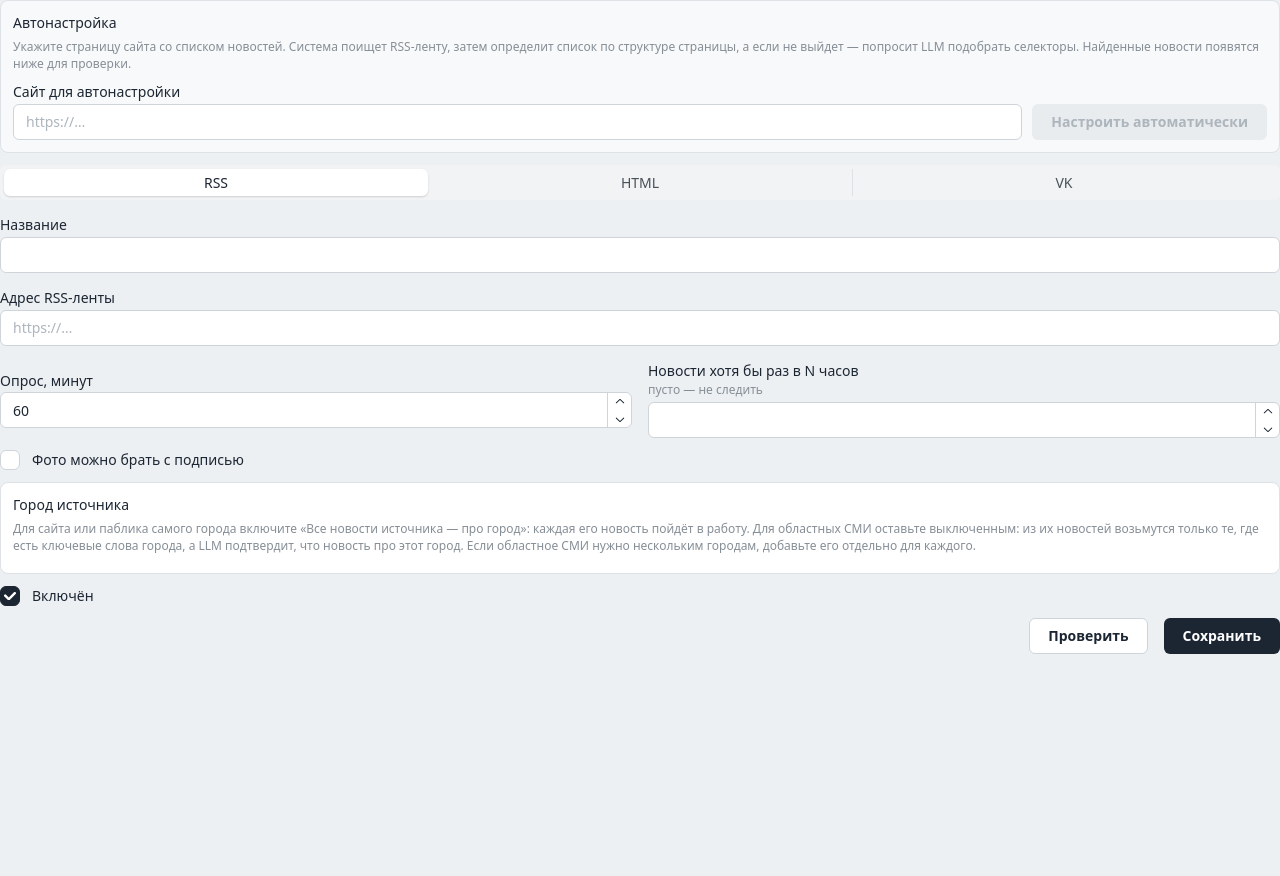
Scenario: SourceForm › autodetect failure opens manual setup
Type "https://card.example/" into the field labelled "Сайт для автонастройки" at (518, 122), box left=13, top=104, right=1022, bottom=140
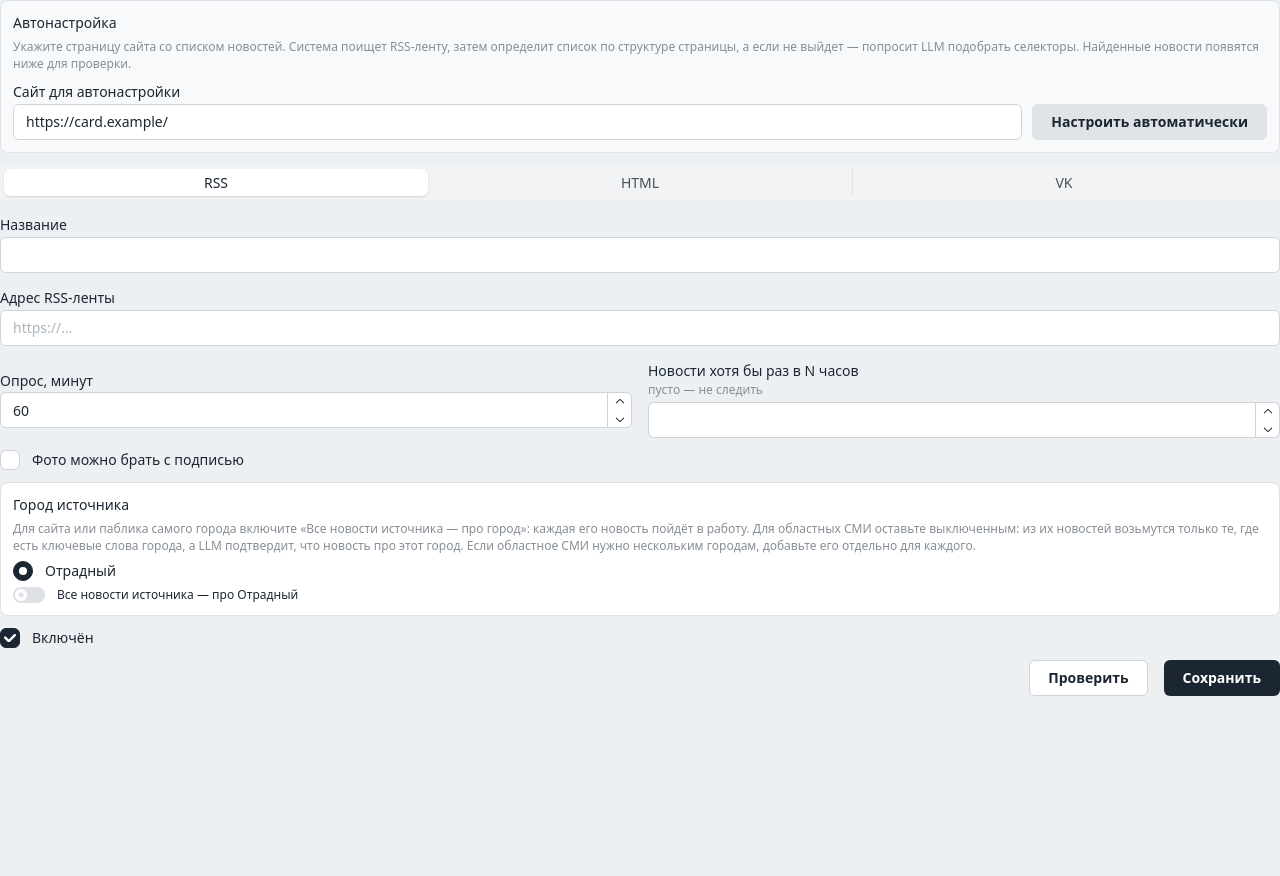
Click the button "Настроить автоматически" at (1150, 122), box left=1032, top=104, right=1267, bottom=140
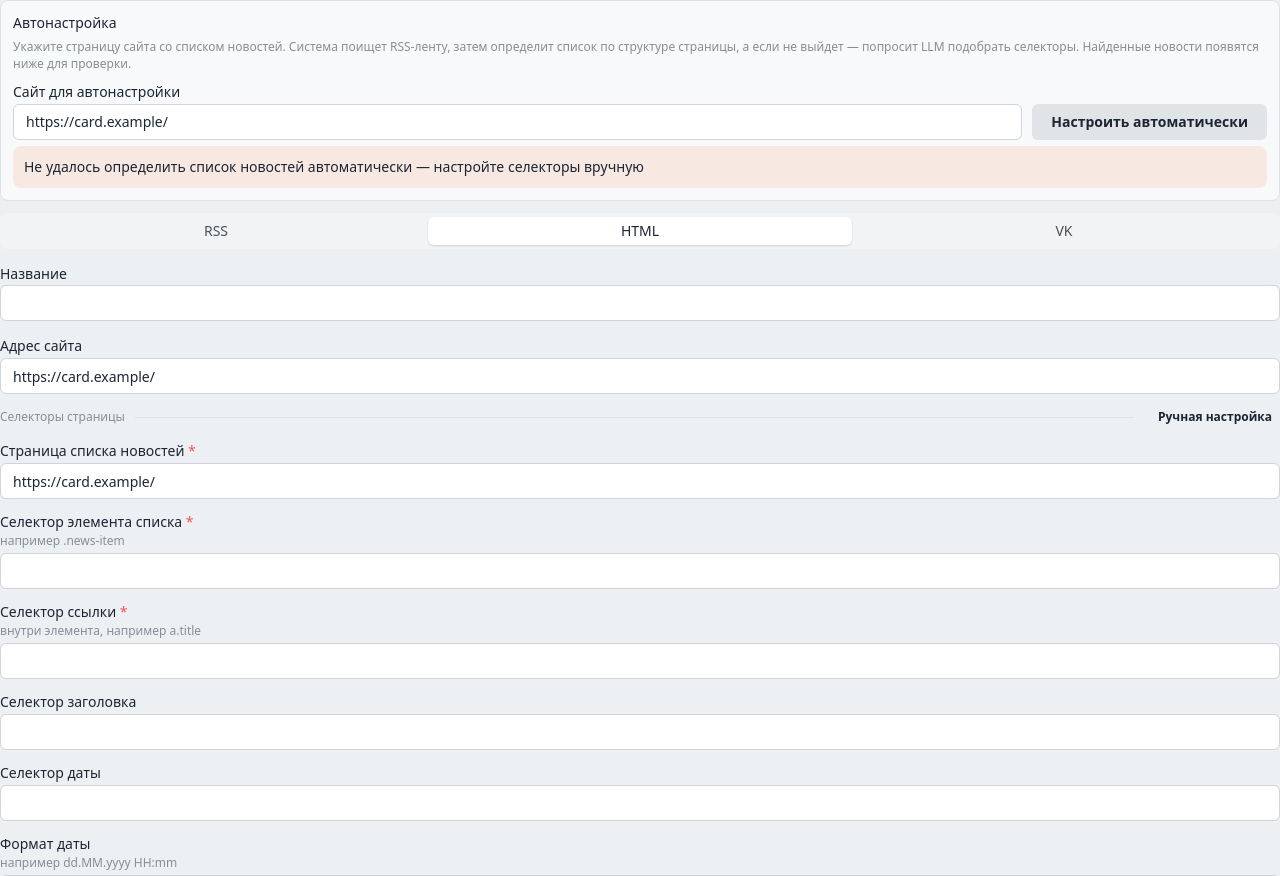
Now the text "настройте селекторы вручную" is shown, box left=24, top=157, right=644, bottom=176
Now the field labelled "Страница списка новостей *" holds "https://card.example/", box left=0, top=463, right=1279, bottom=499
